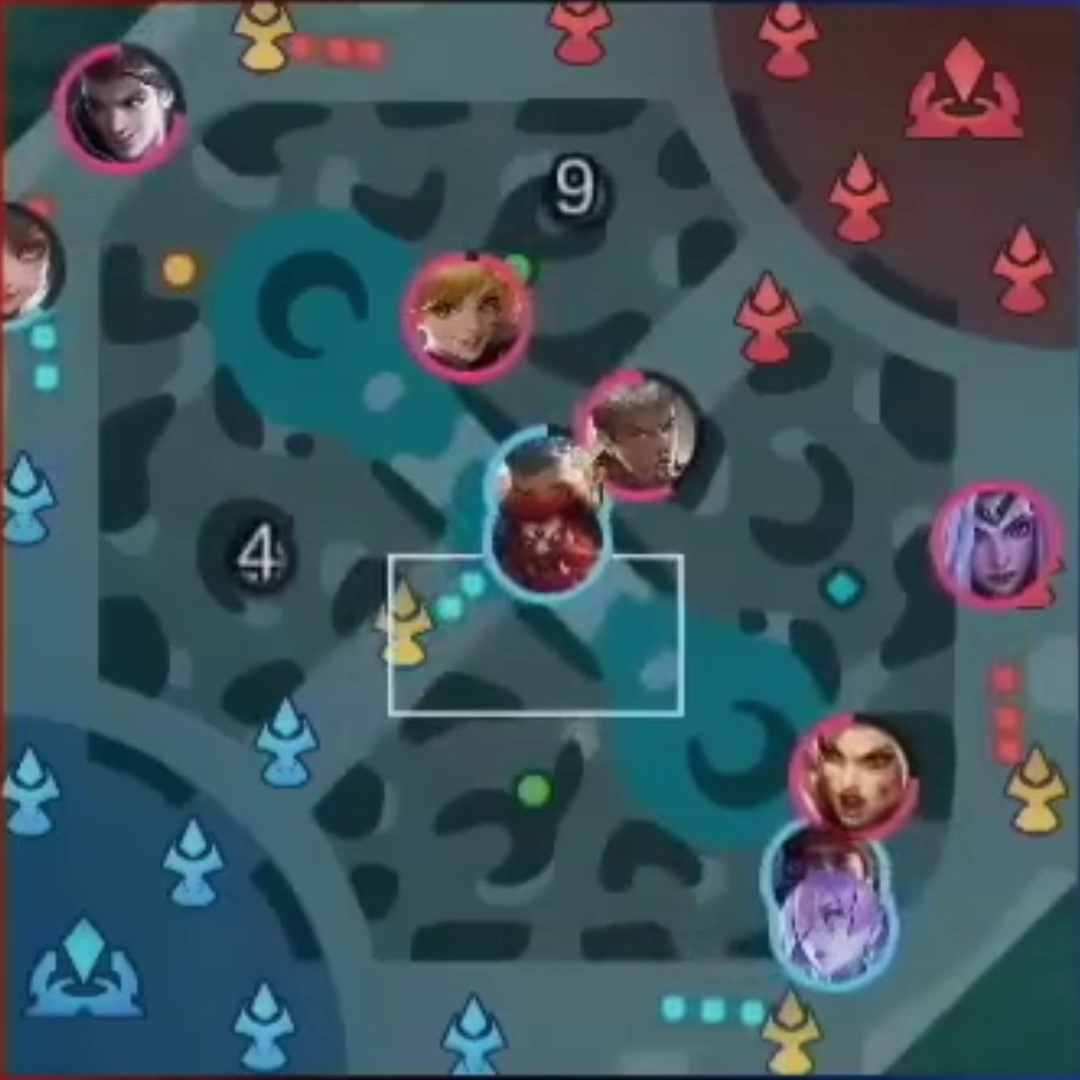Chou: (583, 379, 693, 491)
Claude: (70, 56, 165, 156)
Fanny: (409, 253, 521, 375)
Masha: (807, 717, 909, 836)
Minotaur: (496, 495, 605, 601)
Novaria: (785, 884, 887, 988)
Valentina: (937, 481, 1049, 606)
Wanwan: (1, 204, 58, 323)
